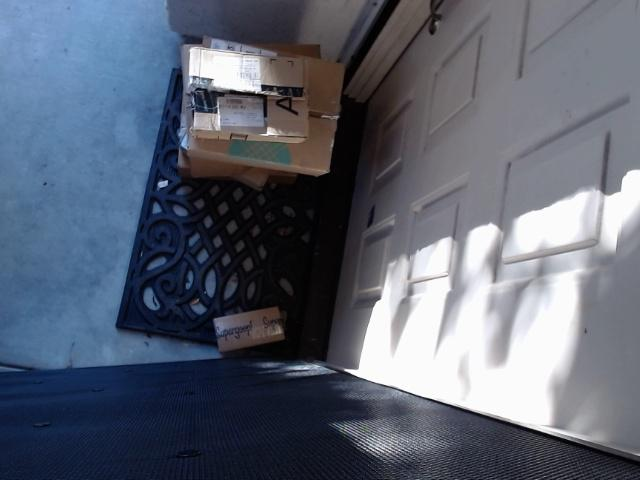box: (155, 30, 387, 206), (192, 39, 348, 189), (177, 41, 317, 149), (200, 276, 307, 375)
